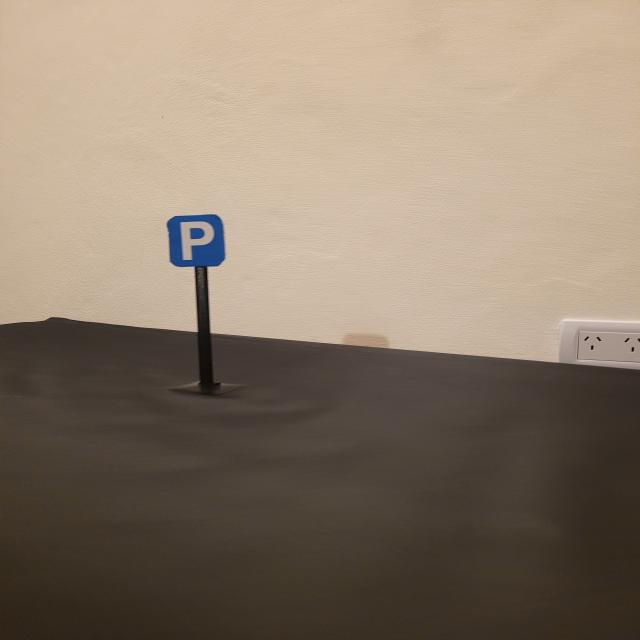parking: (167, 214, 225, 267)
